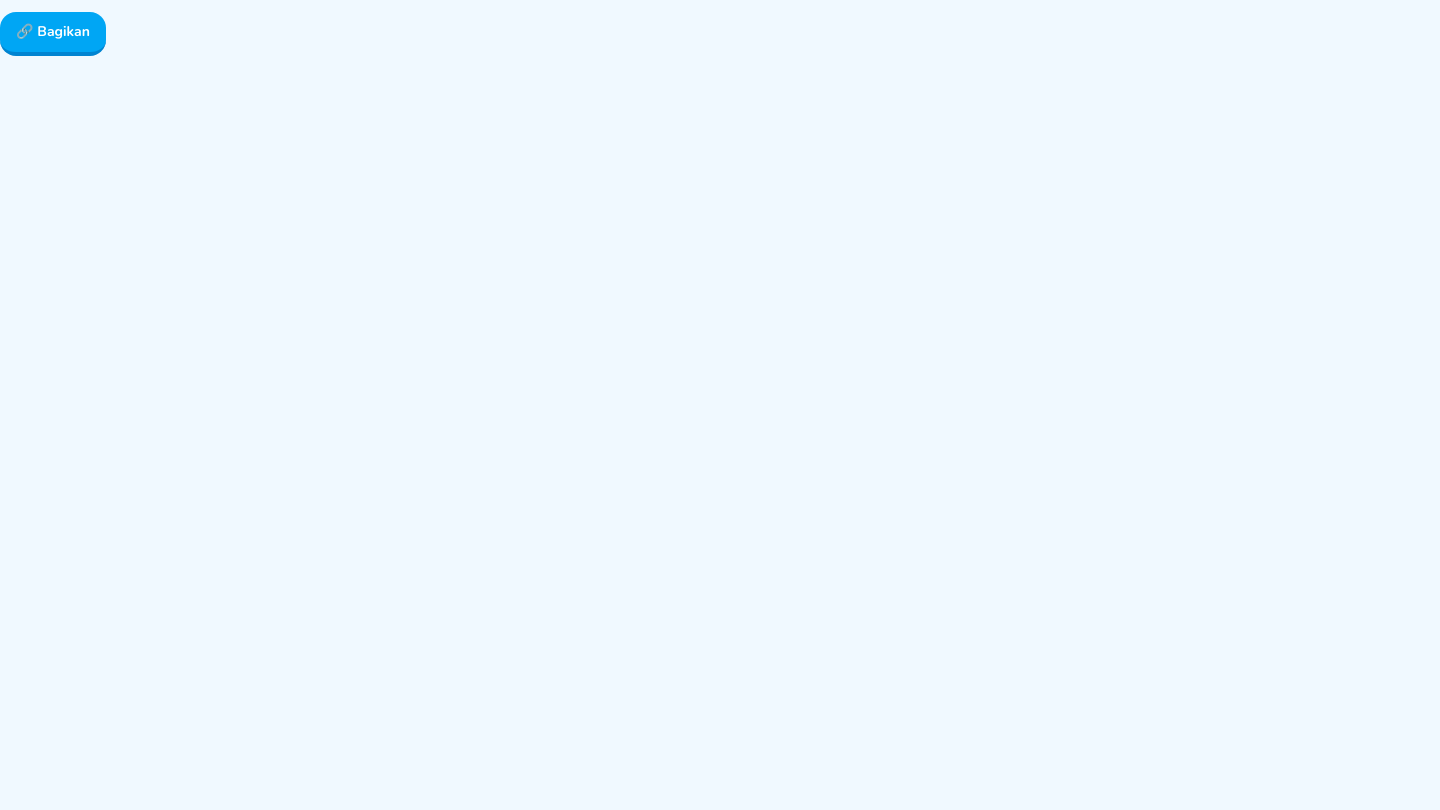
Test: ShareAchievement Component › membuka dialog saat tombol Bagikan diklik dan menampilkan judul
Click the button "🔗 Bagikan".
click(53, 34)  # box x1=0 y1=12 x2=106 y2=56
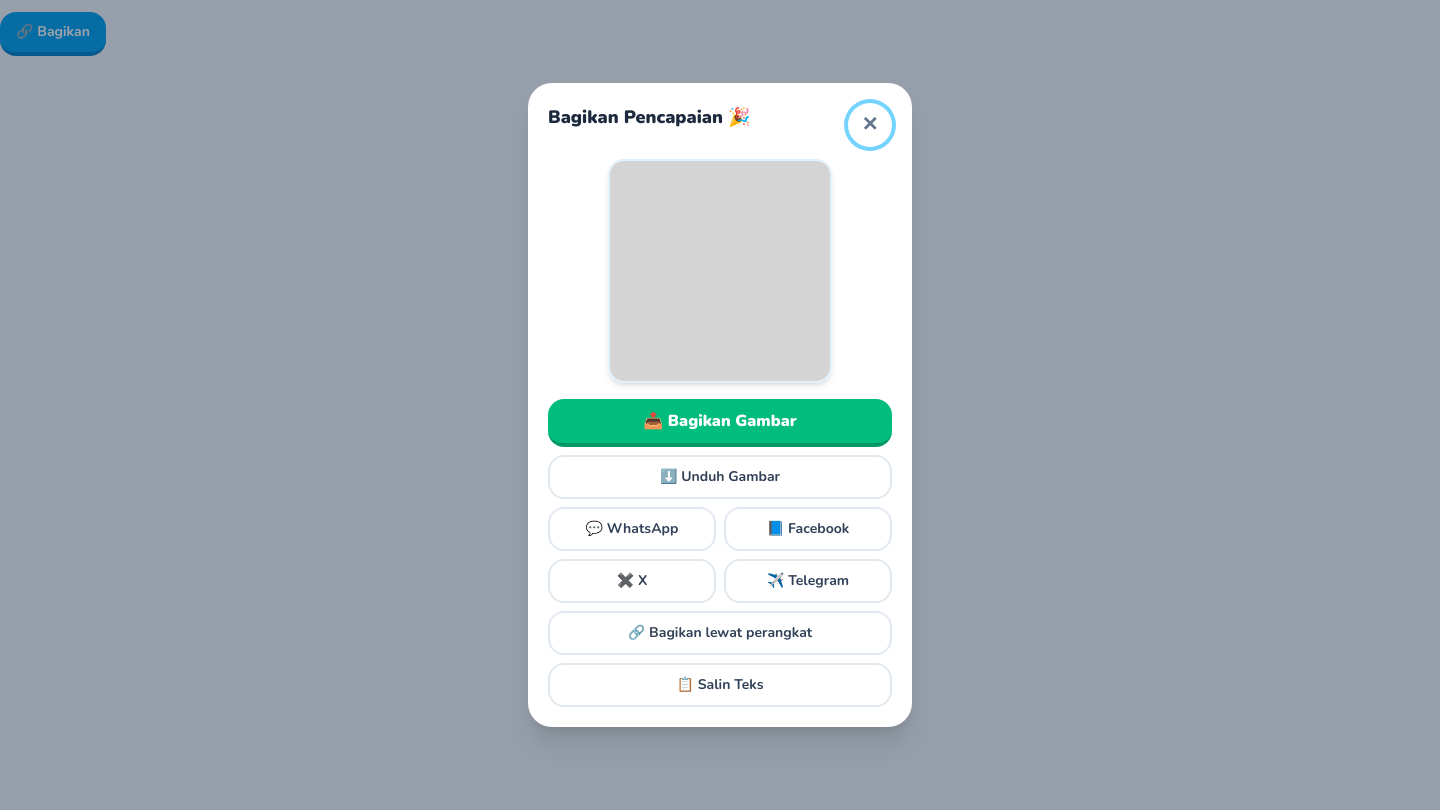
Check: the dialog is shown, box x1=528 y1=83 x2=912 y2=727
Check: the heading "Bagikan Pencapaian 🎉" is shown, box x1=548 y1=103 x2=751 y2=131
